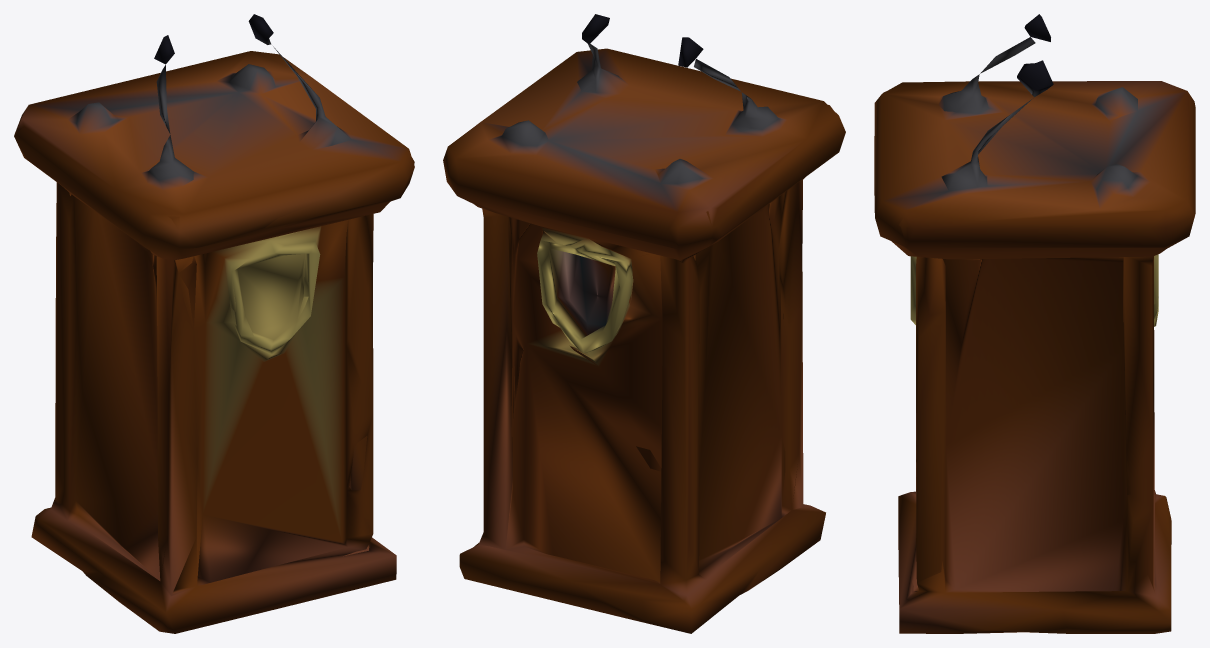
File: gen3d-lecture-podium-lod1.glb
3 views of the same model, side by side, from view 1: azimuth 30°, elevation 25°; view 2: azimuth 150°, elevation 25°; view 3: azimuth 270°, elevation 25° (orthographic).
Visible parts, largest first — view 1: part_0; view 2: part_0; view 3: part_0.
Boxes of the visible parts, x1,y1,x2,y2 form: part_0: (14,14,414,633); part_0: (443,14,845,633); part_0: (874,14,1195,633).
Bounding box in the file's own units: 0.5398 × 0.9998 × 0.5403.
